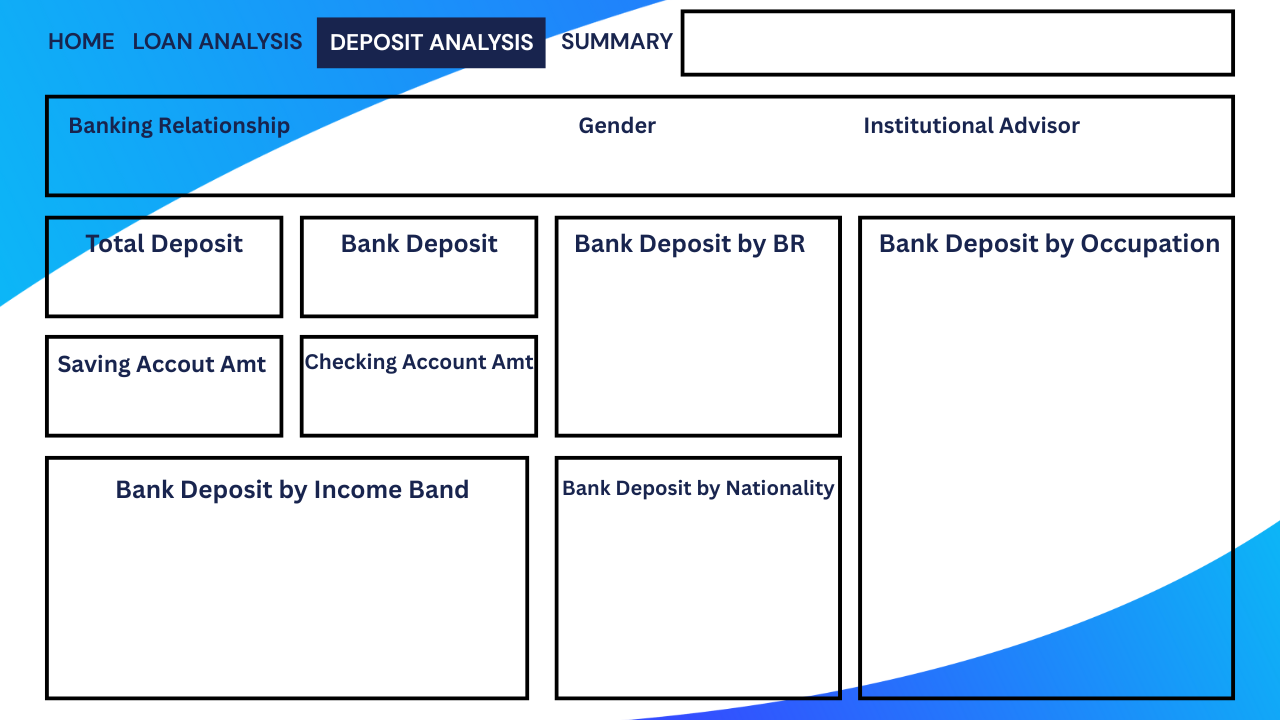

Layout of this report page (visuals, bound fields, positions):
{"tool":"powerbi","page":{"name":"Deposit Analysis","canvas":[1280,720],"ordinal":2},"visuals":[{"type":"slicer","fields":{"Values":["Banking (1).Year of Joining"]},"box":[678,18.1,552.5,51.9],"z":0},{"type":"actionButton","box":[30.2,20.5,95.3,44.6],"z":1000},{"type":"actionButton","box":[562.2,19.3,117,44.6],"z":2000},{"type":"actionButton","box":[320.9,18.1,209.9,44.6],"z":3000},{"type":"card","fields":{"Values":["Banking (1).Total Loan"]},"box":[78.4,241.3,177.3,73.6],"z":4000},{"type":"card","fields":{"Values":["Sum(Banking (1).Bank Deposits)"]},"box":[320.9,241.3,177.3,73.6],"z":5000},{"type":"card","fields":{"Values":["Sum(Banking (1).Saving Accounts)"]},"box":[78.4,359.5,177.3,73.6],"z":6000},{"type":"card","fields":{"Values":["Sum(Banking (1).Checking Accounts)"]},"box":[320.9,359.5,177.3,73.6],"z":7000},{"type":"clusteredColumnChart","fields":{"Category":["Banking (1).Income Band "],"Y":["Sum(Banking (1).Bank Deposits)"]},"box":[86.9,481.4,376.4,214.7],"z":8000},{"type":"areaChart","fields":{"Category":["Banking (1).BRId"],"Y":["Sum(Banking (1).Bank Deposits)"]},"box":[562.2,255.8,266.6,177.3],"z":9000},{"type":"lineChart","fields":{"Category":["Banking (1).Nationality"],"Y":["Sum(Banking (1).Bank Deposits)"]},"box":[563.4,503.1,266.6,193],"z":10000},{"type":"lineStackedColumnComboChart","fields":{"Category":["Banking (1).Occupation"],"Y":["Sum(Banking (1).Bank Deposits)"]},"box":[873.5,270.2,343.8,415],"z":11000},{"type":"slicer","fields":{"Values":["Banking (1).BRId"]},"box":[32.6,131.5,445.2,56.7],"z":12000},{"type":"slicer","fields":{"Values":["Banking (1).GenderId"]},"box":[498.3,131.5,240.1,56.7],"z":13000},{"type":"slicer","fields":{"Values":["Banking (1).IAId"]},"box":[745.6,130.3,471.7,56.7],"z":14000},{"type":"actionButton","box":[125.5,18.1,182.2,44.6],"z":15000}]}

Visuals, with their boxes in screenshot pixels (x1, y1, x2, y2), scaled from the page's 1280x720 canvas onto the 1280x720 screenshot:
slicer - Banking (1).Year of Joining: [x1=678, y1=18, x2=1230, y2=70]
actionButton: [x1=30, y1=20, x2=126, y2=65]
actionButton: [x1=562, y1=19, x2=679, y2=64]
actionButton: [x1=321, y1=18, x2=531, y2=63]
card - Banking (1).Total Loan: [x1=78, y1=241, x2=256, y2=315]
card - Sum(Banking (1).Bank Deposits): [x1=321, y1=241, x2=498, y2=315]
card - Sum(Banking (1).Saving Accounts): [x1=78, y1=360, x2=256, y2=433]
card - Sum(Banking (1).Checking Accounts): [x1=321, y1=360, x2=498, y2=433]
clusteredColumnChart - Banking (1).Income Band  x Sum(Banking (1).Bank Deposits): [x1=87, y1=481, x2=463, y2=696]
areaChart - Banking (1).BRId x Sum(Banking (1).Bank Deposits): [x1=562, y1=256, x2=829, y2=433]
lineChart - Banking (1).Nationality x Sum(Banking (1).Bank Deposits): [x1=563, y1=503, x2=830, y2=696]
lineStackedColumnComboChart - Banking (1).Occupation x Sum(Banking (1).Bank Deposits): [x1=874, y1=270, x2=1217, y2=685]
slicer - Banking (1).BRId: [x1=33, y1=132, x2=478, y2=188]
slicer - Banking (1).GenderId: [x1=498, y1=132, x2=738, y2=188]
slicer - Banking (1).IAId: [x1=746, y1=130, x2=1217, y2=187]
actionButton: [x1=126, y1=18, x2=308, y2=63]
